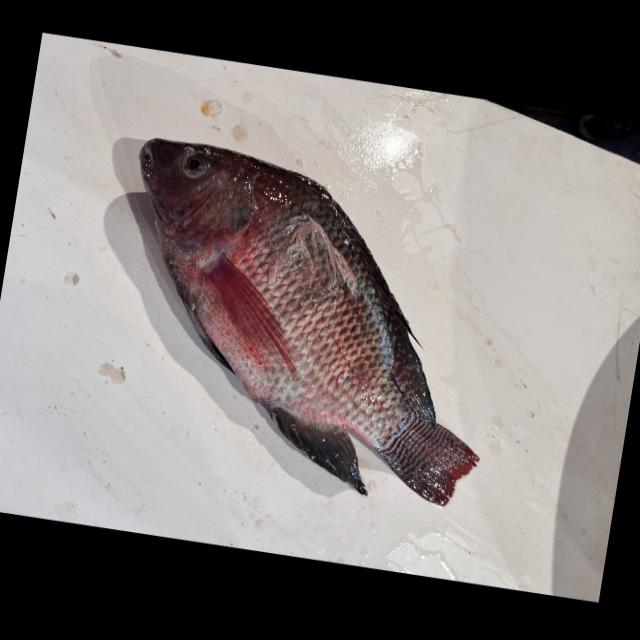Tilapia: (88, 130, 522, 518)
